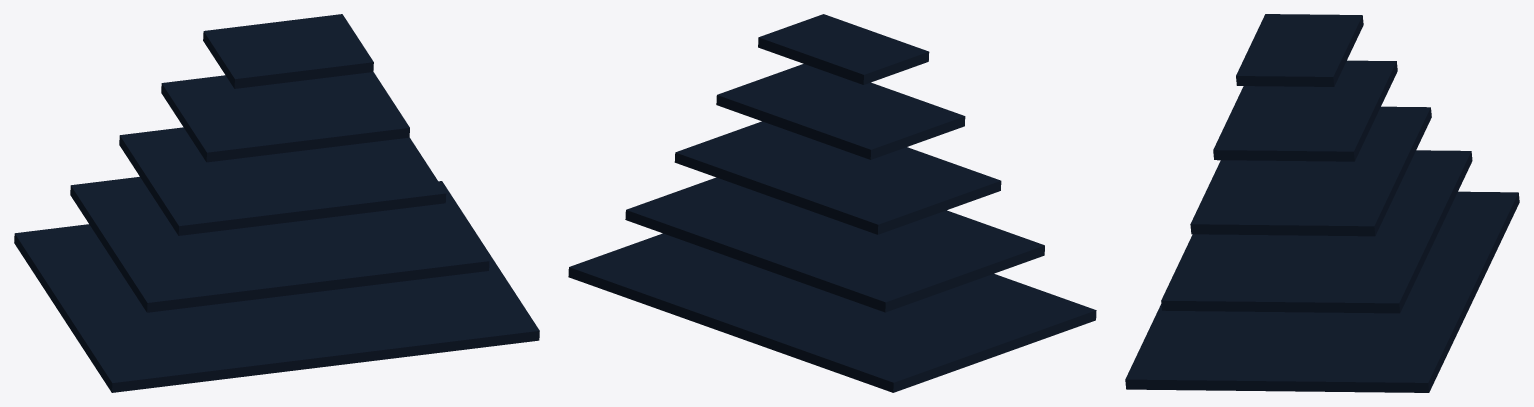
Rendered from aria-build (7).glb.
The picture shows the model from 3 angles, left to right: view 1: azimuth 30°, elevation 25°; view 2: azimuth 150°, elevation 25°; view 3: azimuth 270°, elevation 25°; orthographic projection. The views are drawn at different scales.
Parts seen in each view (by area): view 1: slab_0, slab_1, slab_2, slab_3, slab_4; view 2: slab_0, slab_1, slab_2, slab_3, slab_4; view 3: slab_0, slab_1, slab_2, slab_3, slab_4.
Boxes of the visible parts, <box> form: slab_0: <box>14,181,539,392</box>; slab_1: <box>70,176,489,312</box>; slab_2: <box>119,127,446,235</box>; slab_3: <box>161,72,409,162</box>; slab_4: <box>203,14,373,88</box>; slab_0: <box>568,233,1096,392</box>; slab_1: <box>625,177,1044,312</box>; slab_2: <box>674,121,1001,234</box>; slab_3: <box>716,64,965,159</box>; slab_4: <box>758,14,929,84</box>; slab_0: <box>1125,191,1519,392</box>; slab_1: <box>1161,150,1472,313</box>; slab_2: <box>1190,106,1431,236</box>; slab_3: <box>1213,60,1397,161</box>; slab_4: <box>1236,14,1363,86</box>.
Size of the model in its own units: 4.49 by 2.69 by 3.56.
